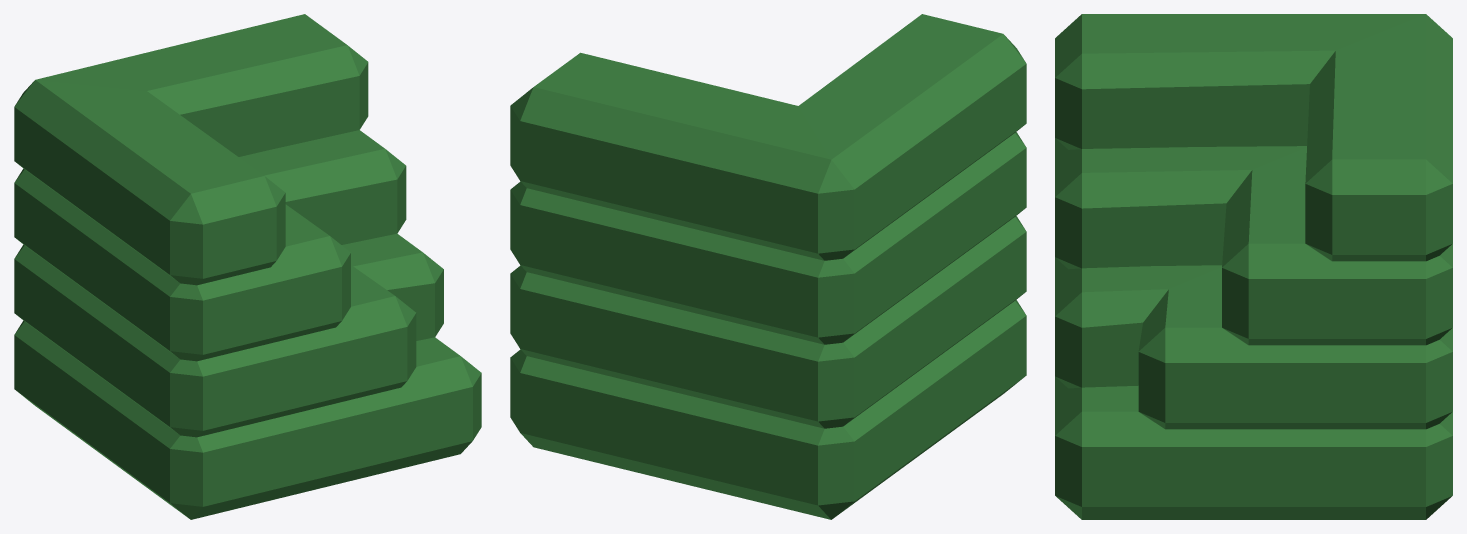
The model's file is m_kub_dung_stairs_cornerIn.fbx.
The picture shows the model from 3 angles, left to right: view 1: azimuth 30°, elevation 25°; view 2: azimuth 150°, elevation 25°; view 3: azimuth 270°, elevation 25°; orthographic projection. The views are drawn at different scales.
Visible parts, largest first — view 1: m_kub_dung_stairs_cornerIn; view 2: m_kub_dung_stairs_cornerIn; view 3: m_kub_dung_stairs_cornerIn.
Part boxes in pixels (<box>): m_kub_dung_stairs_cornerIn: <box>14,14,481,519</box>; m_kub_dung_stairs_cornerIn: <box>510,14,1026,519</box>; m_kub_dung_stairs_cornerIn: <box>1055,14,1452,519</box>.
Bounding box in the file's own units: 2.15 × 2.15 × 2.15.
